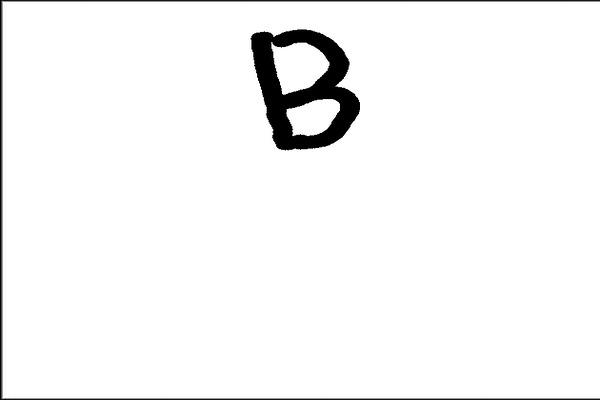B: (241, 20, 367, 157)
